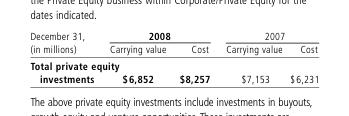table: (29, 29, 318, 84)
table column: (29, 29, 113, 84), (217, 29, 285, 84), (113, 29, 172, 84), (172, 29, 217, 84), (285, 29, 318, 84)
table column header: (29, 29, 318, 57)
table row: (29, 57, 318, 84), (29, 42, 318, 57), (29, 29, 318, 42)
table spanning cell: (29, 29, 113, 57), (113, 29, 217, 42), (217, 29, 318, 42)
